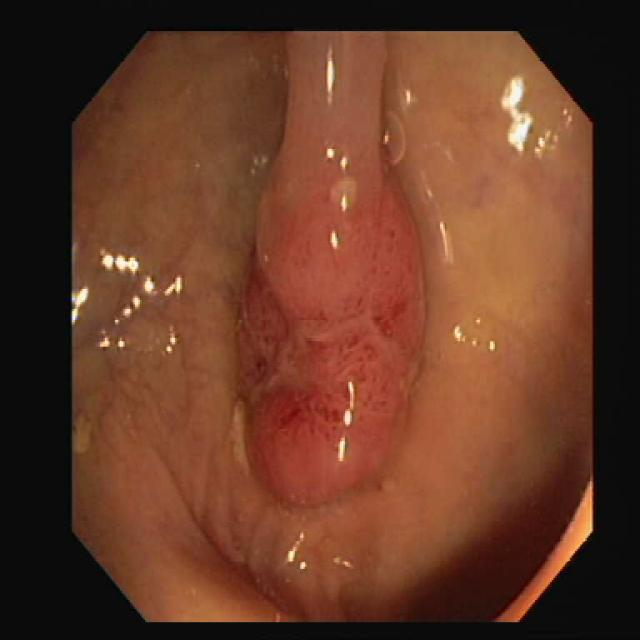tumor: (238, 33, 430, 558)
